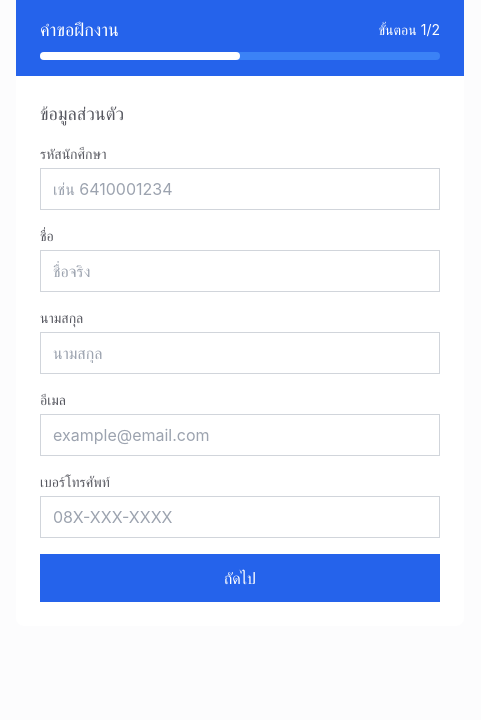
Test case: Mobile Form Workflow › Multi-step Form Navigation › shows validation errors when trying to proceed with invalid data
// Try to proceed without filling required fields
Click the button "ถัดไป".
click(240, 578)  # box x1=40 y1=554 x2=440 y2=602
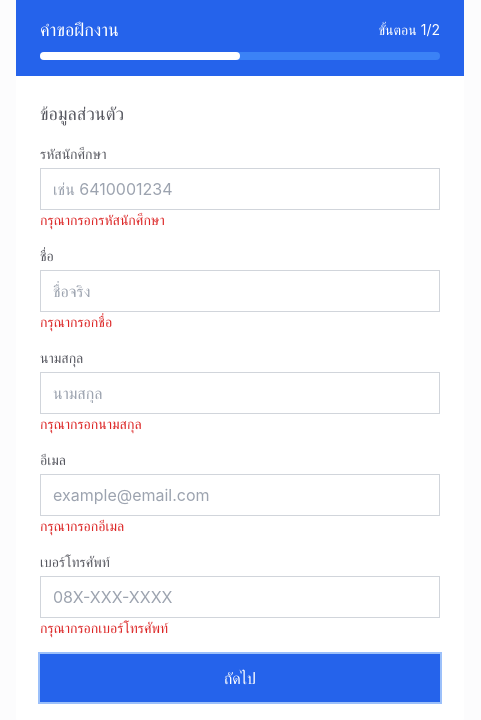
Expected: the text "กรุณากรอกรหัสนักศึกษา" is shown, x1=40 y1=211 x2=165 y2=228
Expected: the text "กรุณากรอกชื่อ" is shown, x1=40 y1=313 x2=112 y2=330
Expected: the text "กรุณากรอกนามสกุล" is shown, x1=40 y1=415 x2=142 y2=432
